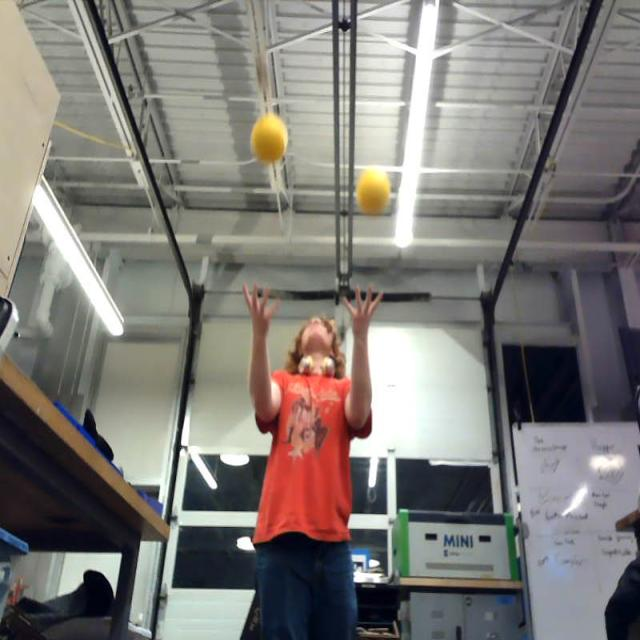Fuel: (252, 116, 286, 163), (358, 168, 390, 214)
